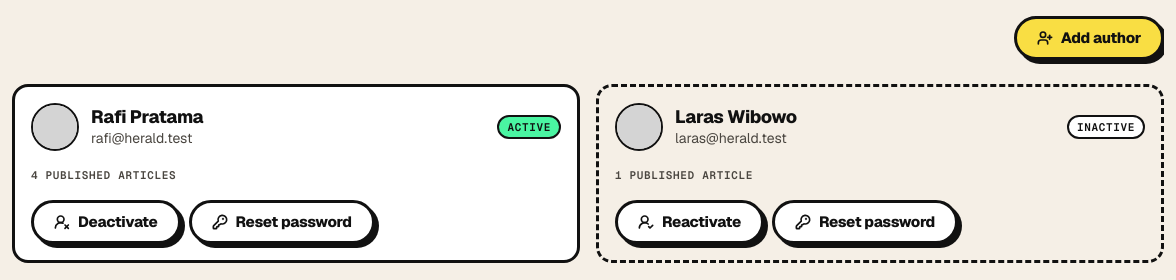
Test: AuthorManager › deactivates and reactivates; there is no delete
Click the button with aria-label "Deactivate Rafi Pratama" at coordinates (106, 222), box [31,200,180,244]
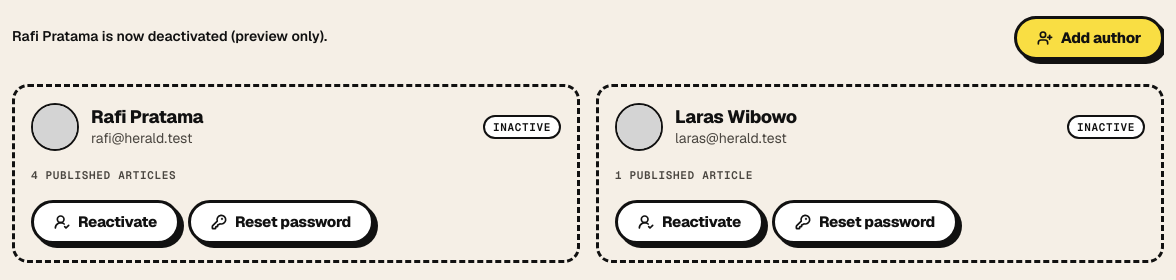
Now the message shows "Rafi Pratama is now deactivated", box [12,27,327,45]
Now the button with aria-label "Reactivate Rafi Pratama" is shown, box [31,200,180,244]
